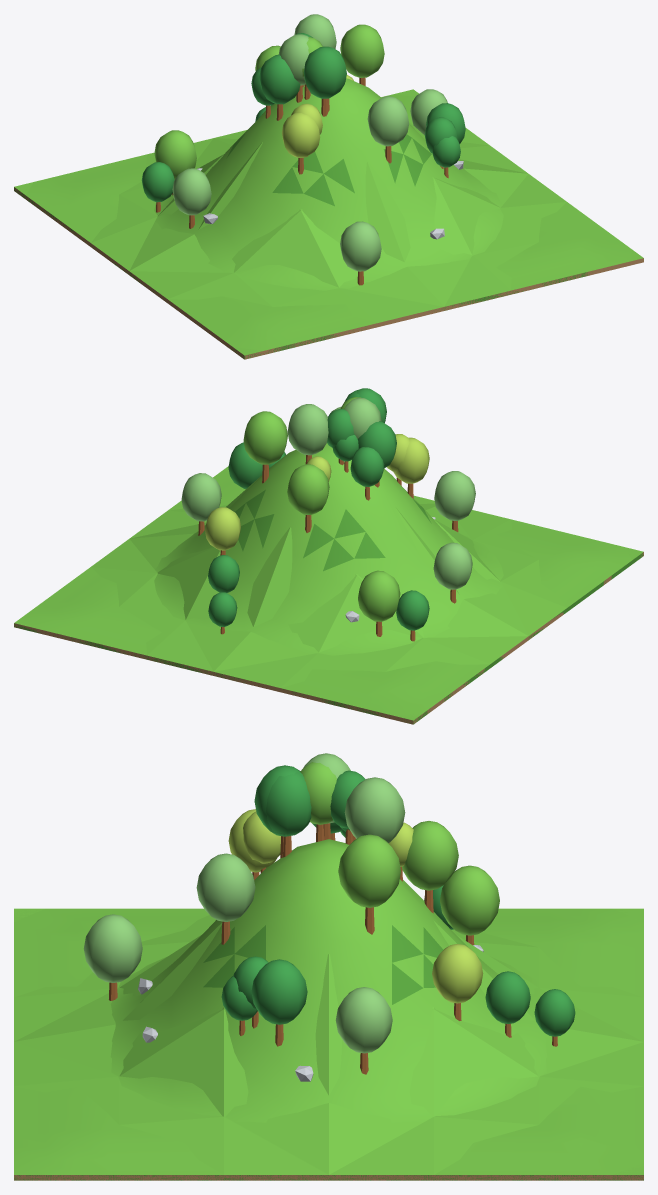
Rendered from morro_verde.glb.
The picture shows the model from 3 angles, top to bottom: view 1: azimuth 30°, elevation 25°; view 2: azimuth 150°, elevation 25°; view 3: azimuth 270°, elevation 25°; orthographic projection. The views are drawn at different scales.
Parts seen in each view (by area): view 1: morro_verde, colisao_morro; view 2: morro_verde, colisao_morro; view 3: morro_verde, colisao_morro.
Boxes of the visible parts, <box> form: morro_verde: <box>14,14,642,359</box>; colisao_morro: <box>14,89,643,359</box>; morro_verde: <box>14,388,643,724</box>; colisao_morro: <box>14,475,643,724</box>; morro_verde: <box>14,753,643,1180</box>; colisao_morro: <box>14,908,643,1180</box>.
Bounding box in the file's own units: 30 × 14.28 × 30.
Materials: 1 (1 with a texture image).
